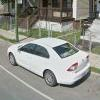Car: (5, 26, 91, 94)
